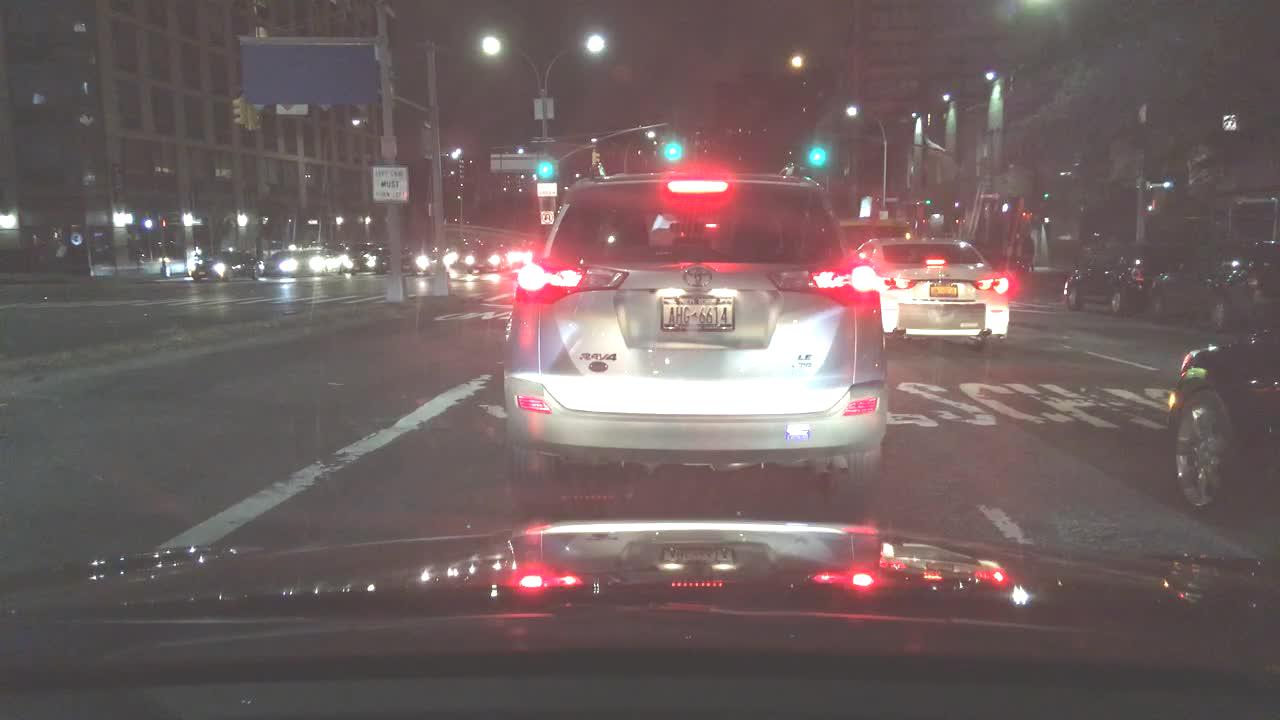Toyota: (673, 254, 719, 298)
